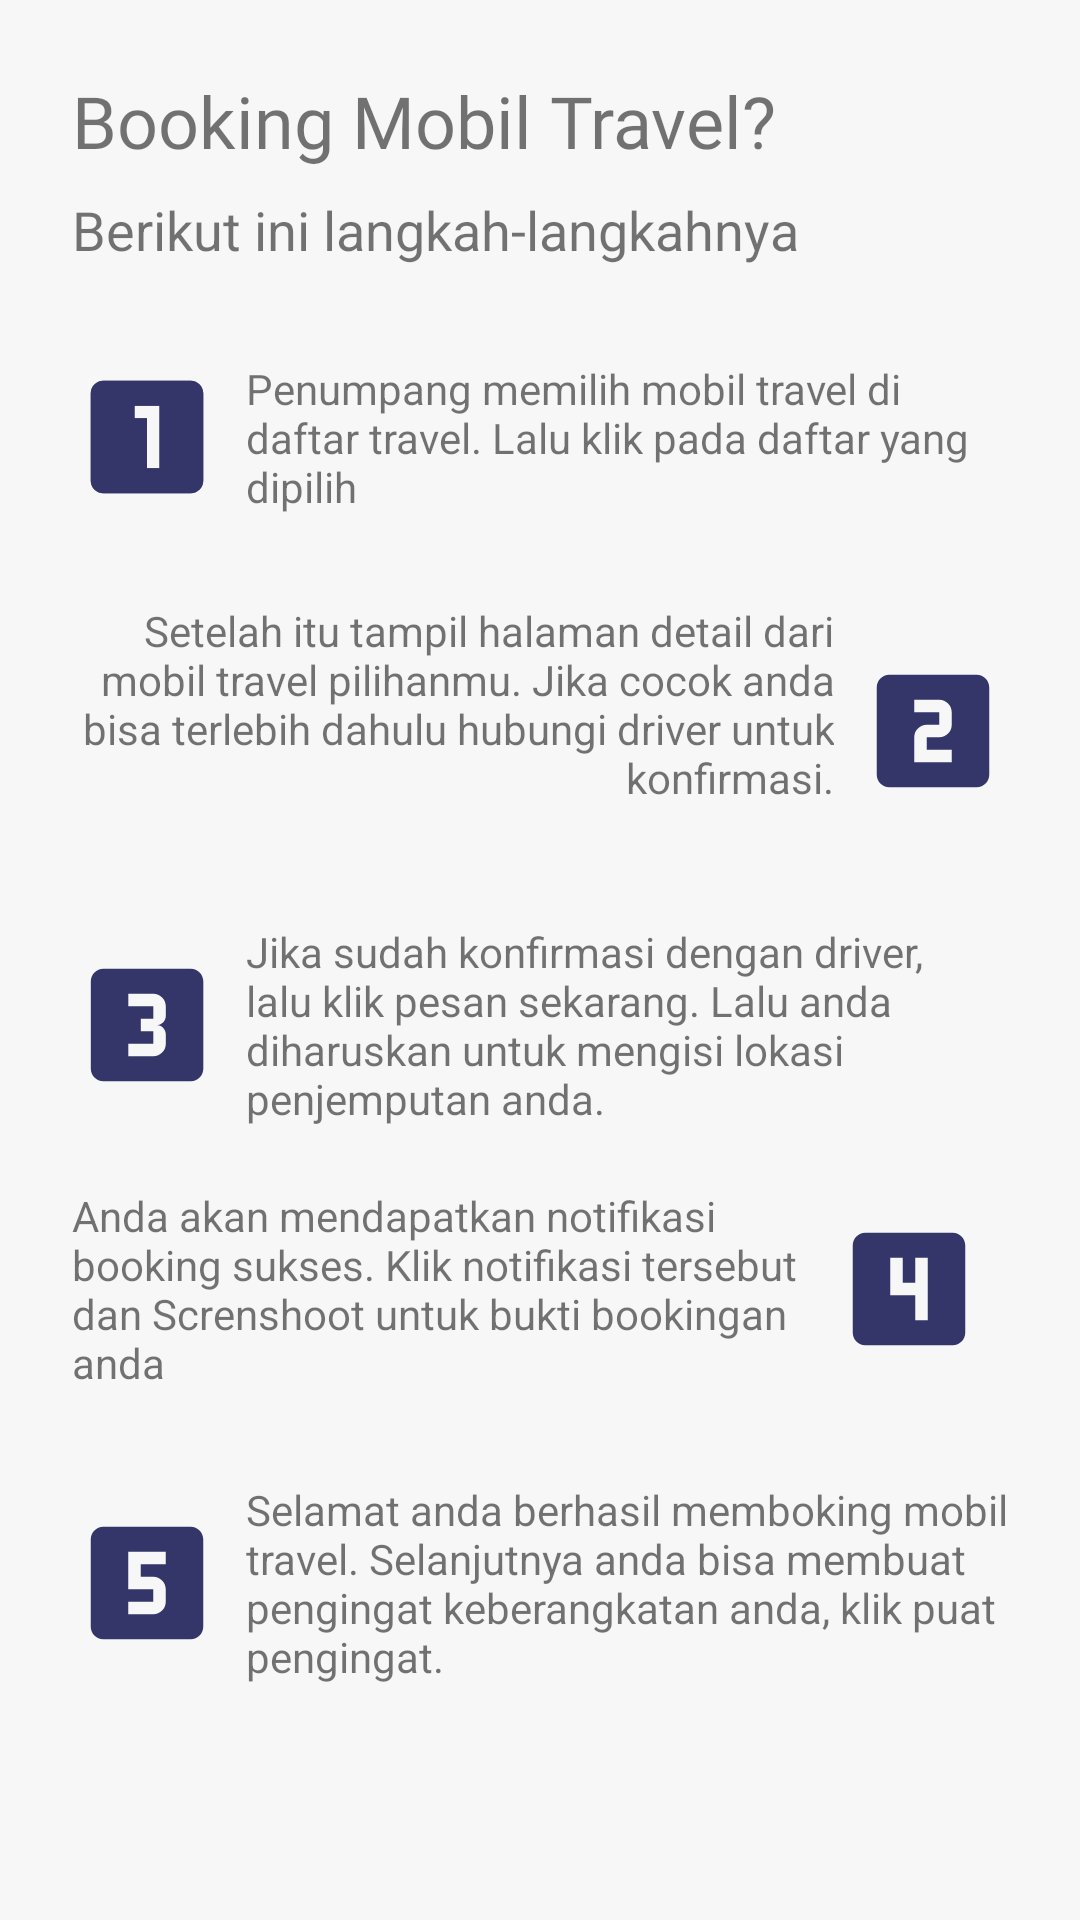

Screen size 1080px x 1920px. Icon name, then its center in pixels as (x=x, y=y):
looks two: (x=933, y=731)
